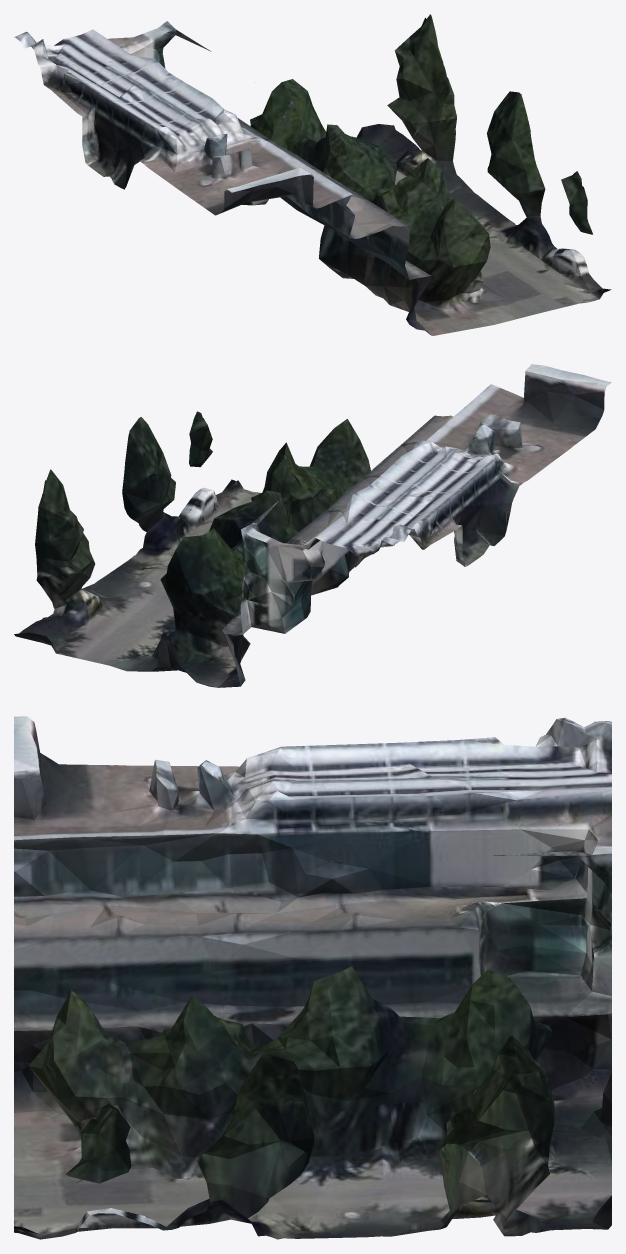
Rendered from helsinki-1-7.glb.
3 views of the same model, one above another, from view 1: azimuth 30°, elevation 25°; view 2: azimuth 150°, elevation 25°; view 3: azimuth 270°, elevation 25° (orthographic). The views are drawn at different scales.
Size of the model in its own units: 31.75 by 15.96 by 31.5.
1 material, 1 textured.
